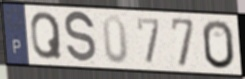0: (101, 13, 129, 65)
7: (170, 17, 197, 70), (135, 16, 162, 66)
O: (201, 19, 236, 71)
Q: (30, 11, 64, 62)
S: (63, 9, 98, 66)
